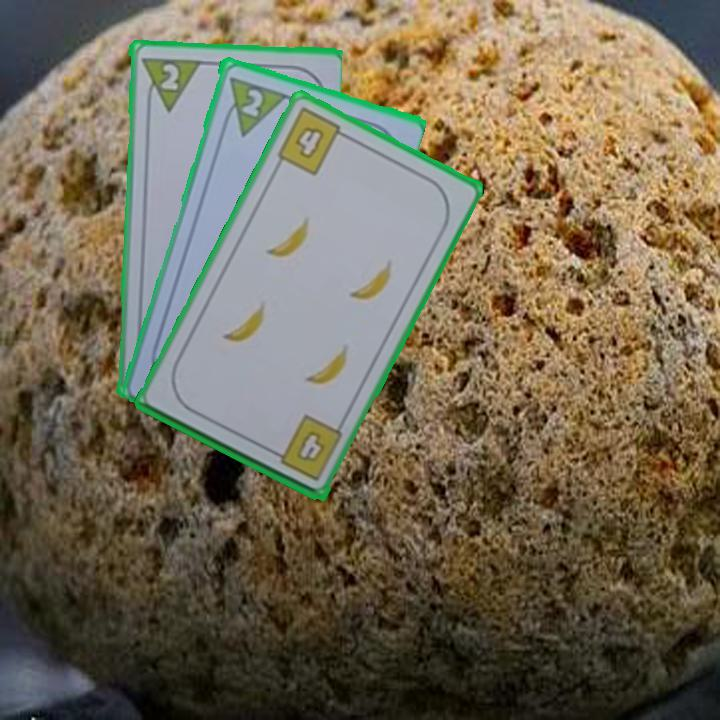2p: (217, 72, 288, 139), (157, 59, 182, 93)
4b: (273, 103, 353, 179), (266, 411, 345, 484)
